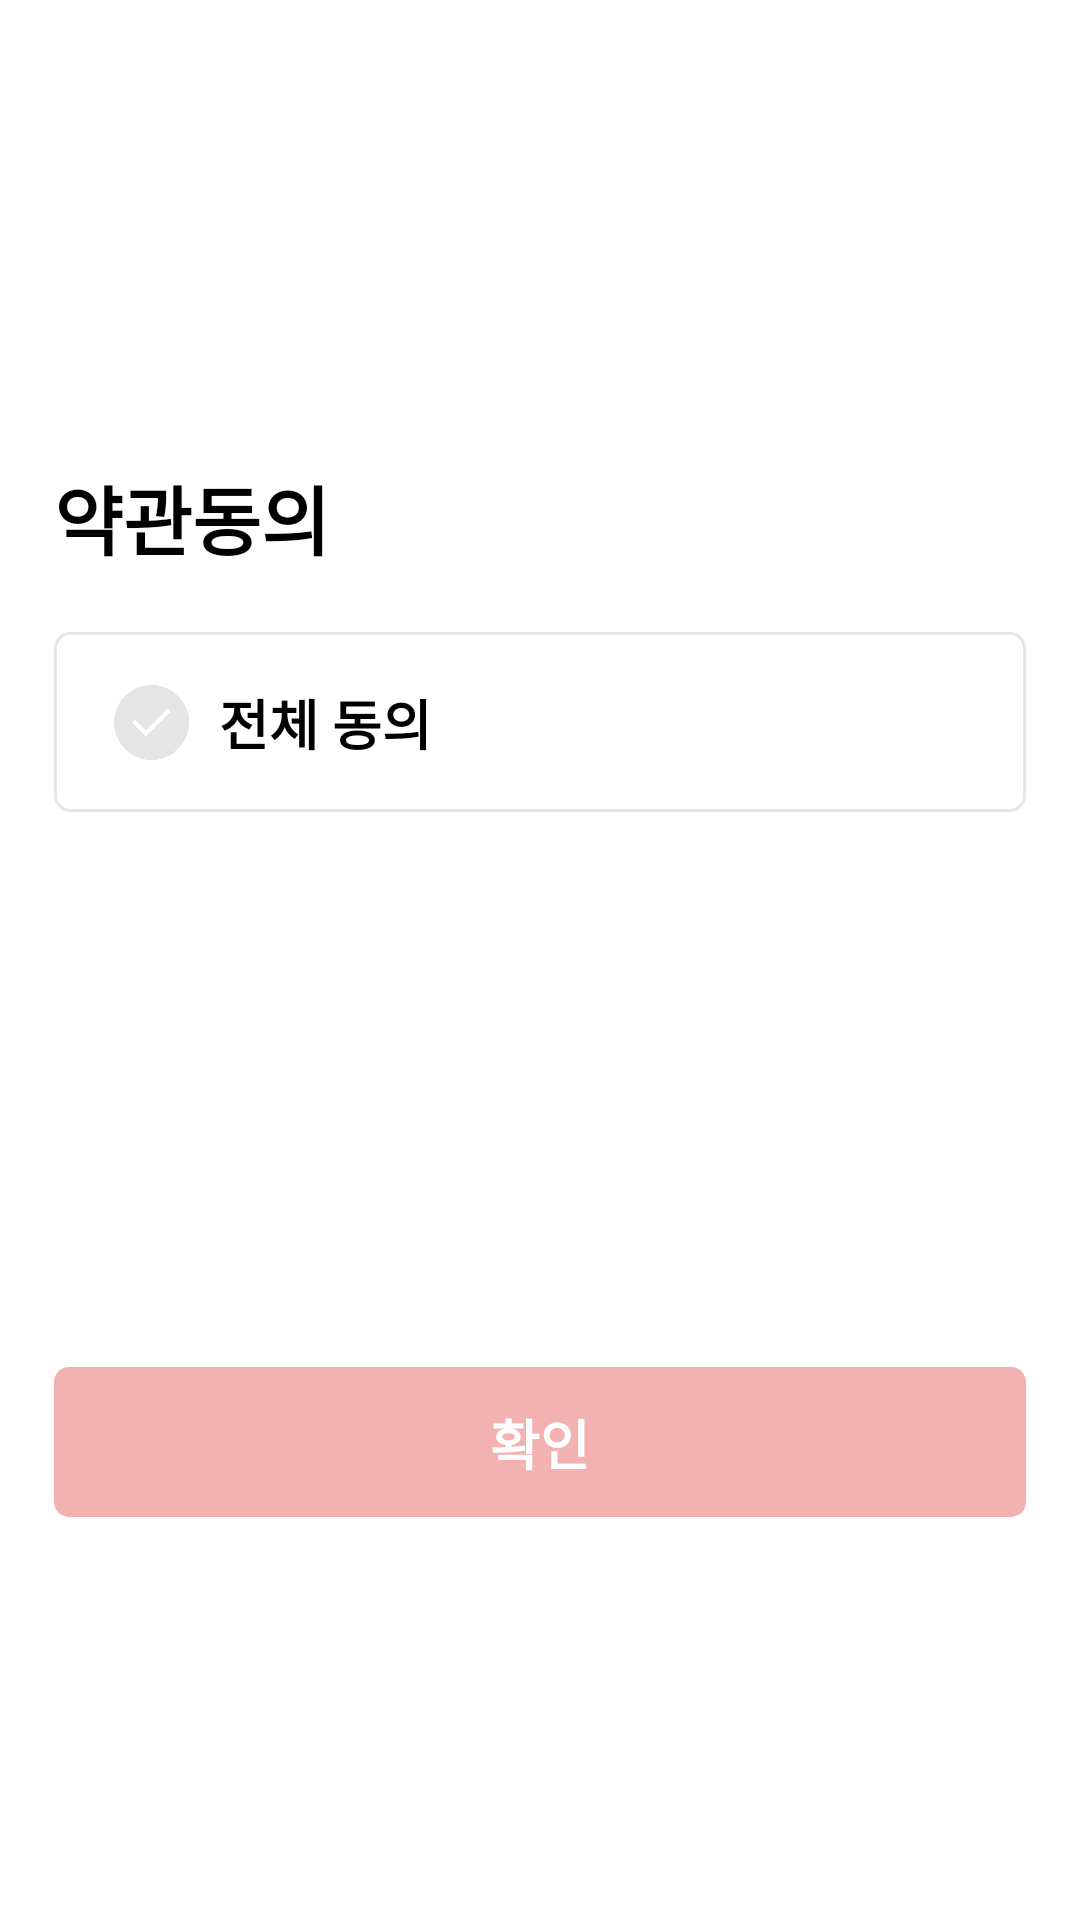

Icon click points for this 1080 x 1920 phone screenshot, format (x,y):
pay agree unchecked: (151,722)
